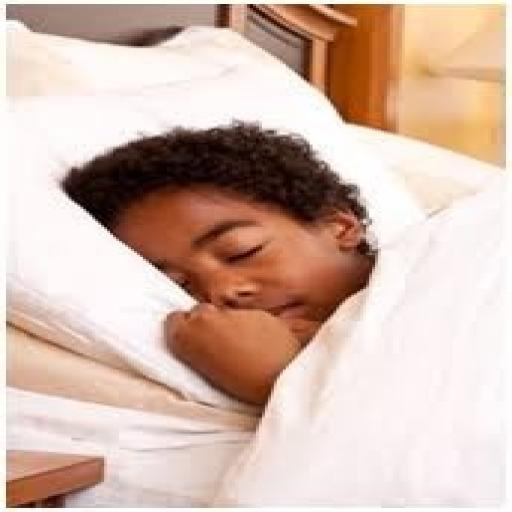sleeping: (57, 116, 384, 406)
